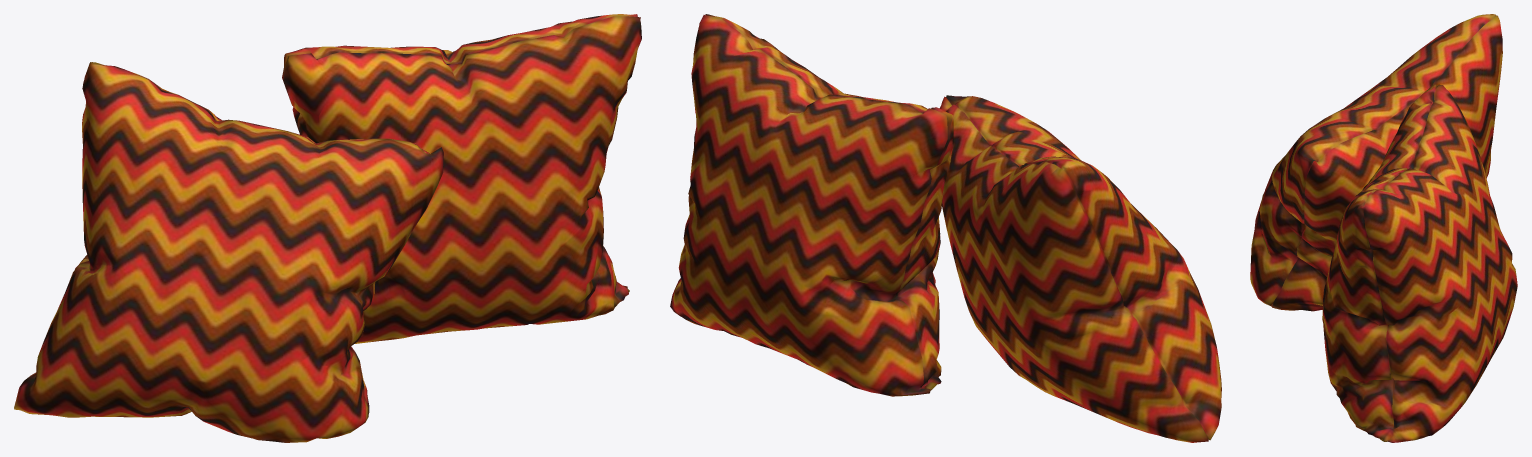
The model's file is throw_pillows_01.gltf.
3 renders of one model, left to right at view 1: azimuth 30°, elevation 25°; view 2: azimuth 150°, elevation 25°; view 3: azimuth 270°, elevation 25°, orthographic. The views are drawn at different scales.
Visible parts, largest first — view 1: throw_pillows_01_pillow01, throw_pillows_01_pillow02; view 2: throw_pillows_01_pillow02, throw_pillows_01_pillow01; view 3: throw_pillows_01_pillow02, throw_pillows_01_pillow01.
Boxes of the visible parts, x1,y1,x2,y2 form: throw_pillows_01_pillow01: (14, 62, 443, 442); throw_pillows_01_pillow02: (282, 14, 641, 343); throw_pillows_01_pillow02: (670, 14, 953, 396); throw_pillows_01_pillow01: (939, 95, 1221, 442); throw_pillows_01_pillow02: (1322, 84, 1517, 442); throw_pillows_01_pillow01: (1250, 14, 1502, 311).
Bounding box in the file's own units: 0.9401 × 0.4502 × 0.4519.
1 material, 1 textured.
